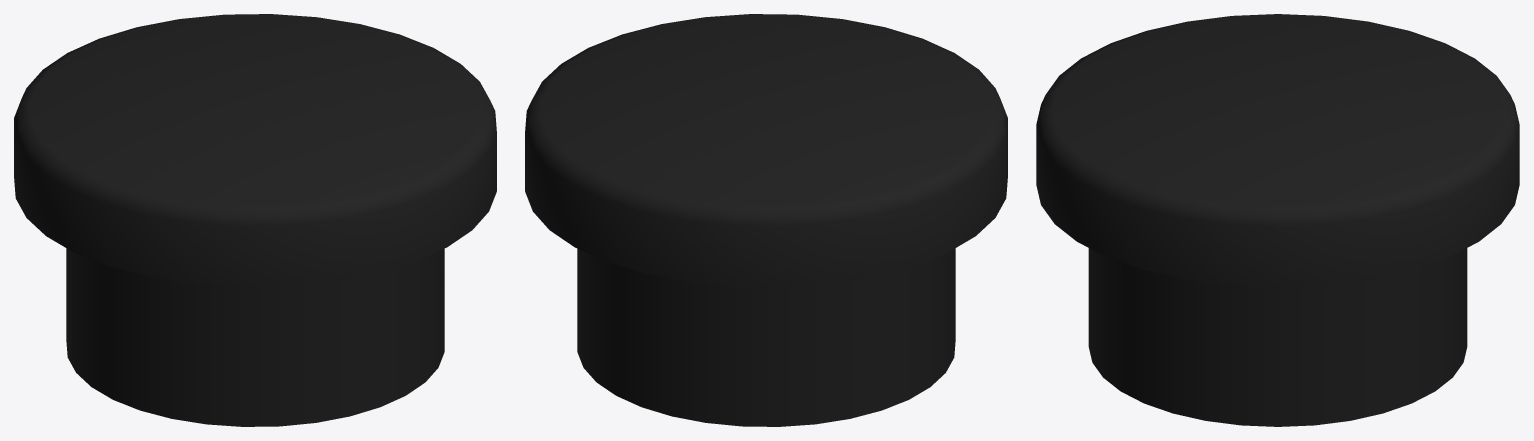
File: SM_甲基红指标液盖子.fbx
3 renders of one model, left to right at view 1: azimuth 30°, elevation 25°; view 2: azimuth 150°, elevation 25°; view 3: azimuth 270°, elevation 25°, orthographic.
Visible parts, largest first — view 1: SM_甲基红指标液盖子; view 2: SM_甲基红指标液盖子; view 3: SM_甲基红指标液盖子.
Part boxes in pixels (x1,y1,x2,y2): SM_甲基红指标液盖子: (14, 14, 496, 426); SM_甲基红指标液盖子: (525, 14, 1007, 426); SM_甲基红指标液盖子: (1036, 14, 1519, 426).
Bounding box in the file's own units: 0.0312 × 0.0169 × 0.0312.
